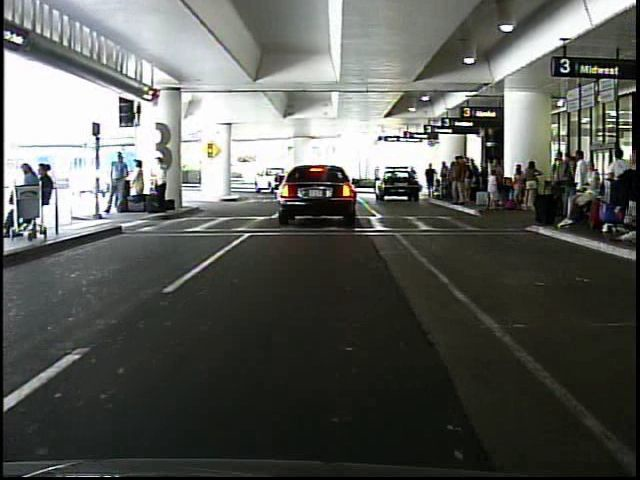person: (102, 150, 133, 219), (153, 154, 170, 214), (131, 159, 149, 210), (424, 162, 438, 199)
